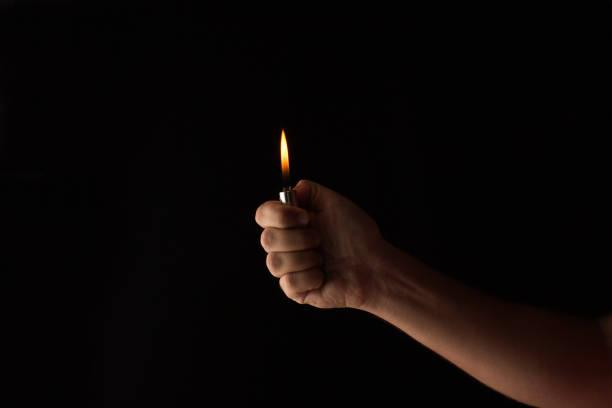Fire: (276, 121, 296, 181)
